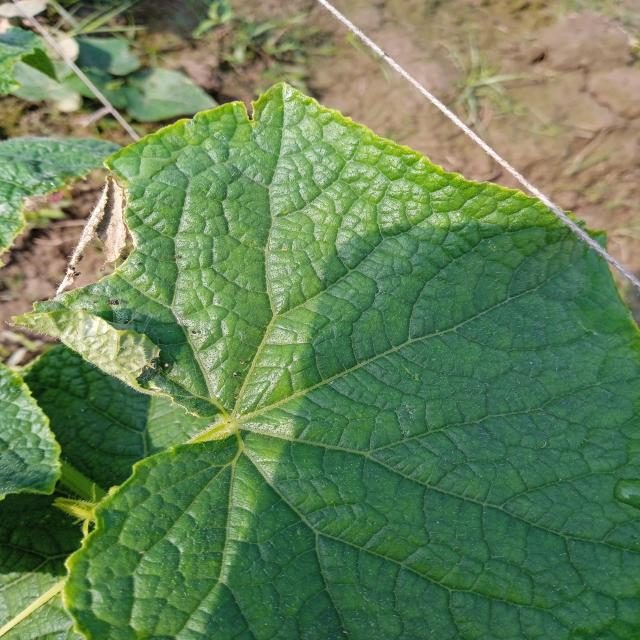cucumber_healthy: (100, 77, 640, 640), (0, 130, 124, 250), (0, 358, 65, 525), (0, 18, 52, 106)
